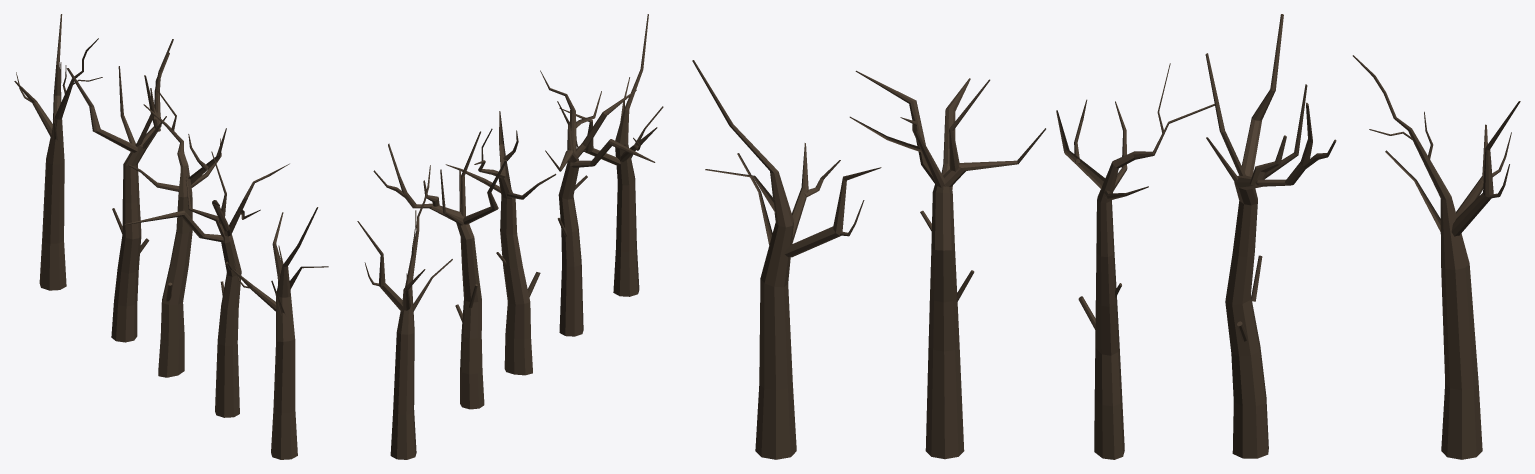
Rendered from Trees02.fbx.
3 views of the same model, side by side, from view 1: azimuth 30°, elevation 25°; view 2: azimuth 150°, elevation 25°; view 3: azimuth 270°, elevation 25° (orthographic). The views are drawn at different scales.
Visible parts, largest first — view 1: tree5, tree2, tree4, tree3, tree1; view 2: tree5, tree2, tree4, tree1, tree3; view 3: tree5, tree2, tree3, tree1, tree4.
Part boxes in pixels (x1,y1,x2,y2): tree5: (66,39,173,342); tree2: (124,151,289,417); tree4: (128,90,226,377); tree3: (232,207,328,459); tree1: (14,14,102,290); tree5: (373,131,506,409); tree2: (540,70,655,336); tree4: (445,111,556,375); tree1: (357,165,452,459); tree3: (559,14,663,296); tree5: (1205,14,1336,458); tree2: (849,70,1045,459); tree3: (692,60,881,459); tree1: (1352,55,1520,459); tree4: (1056,63,1214,459).
Size of the model in its own units: 814 by 1253 by 2332.
